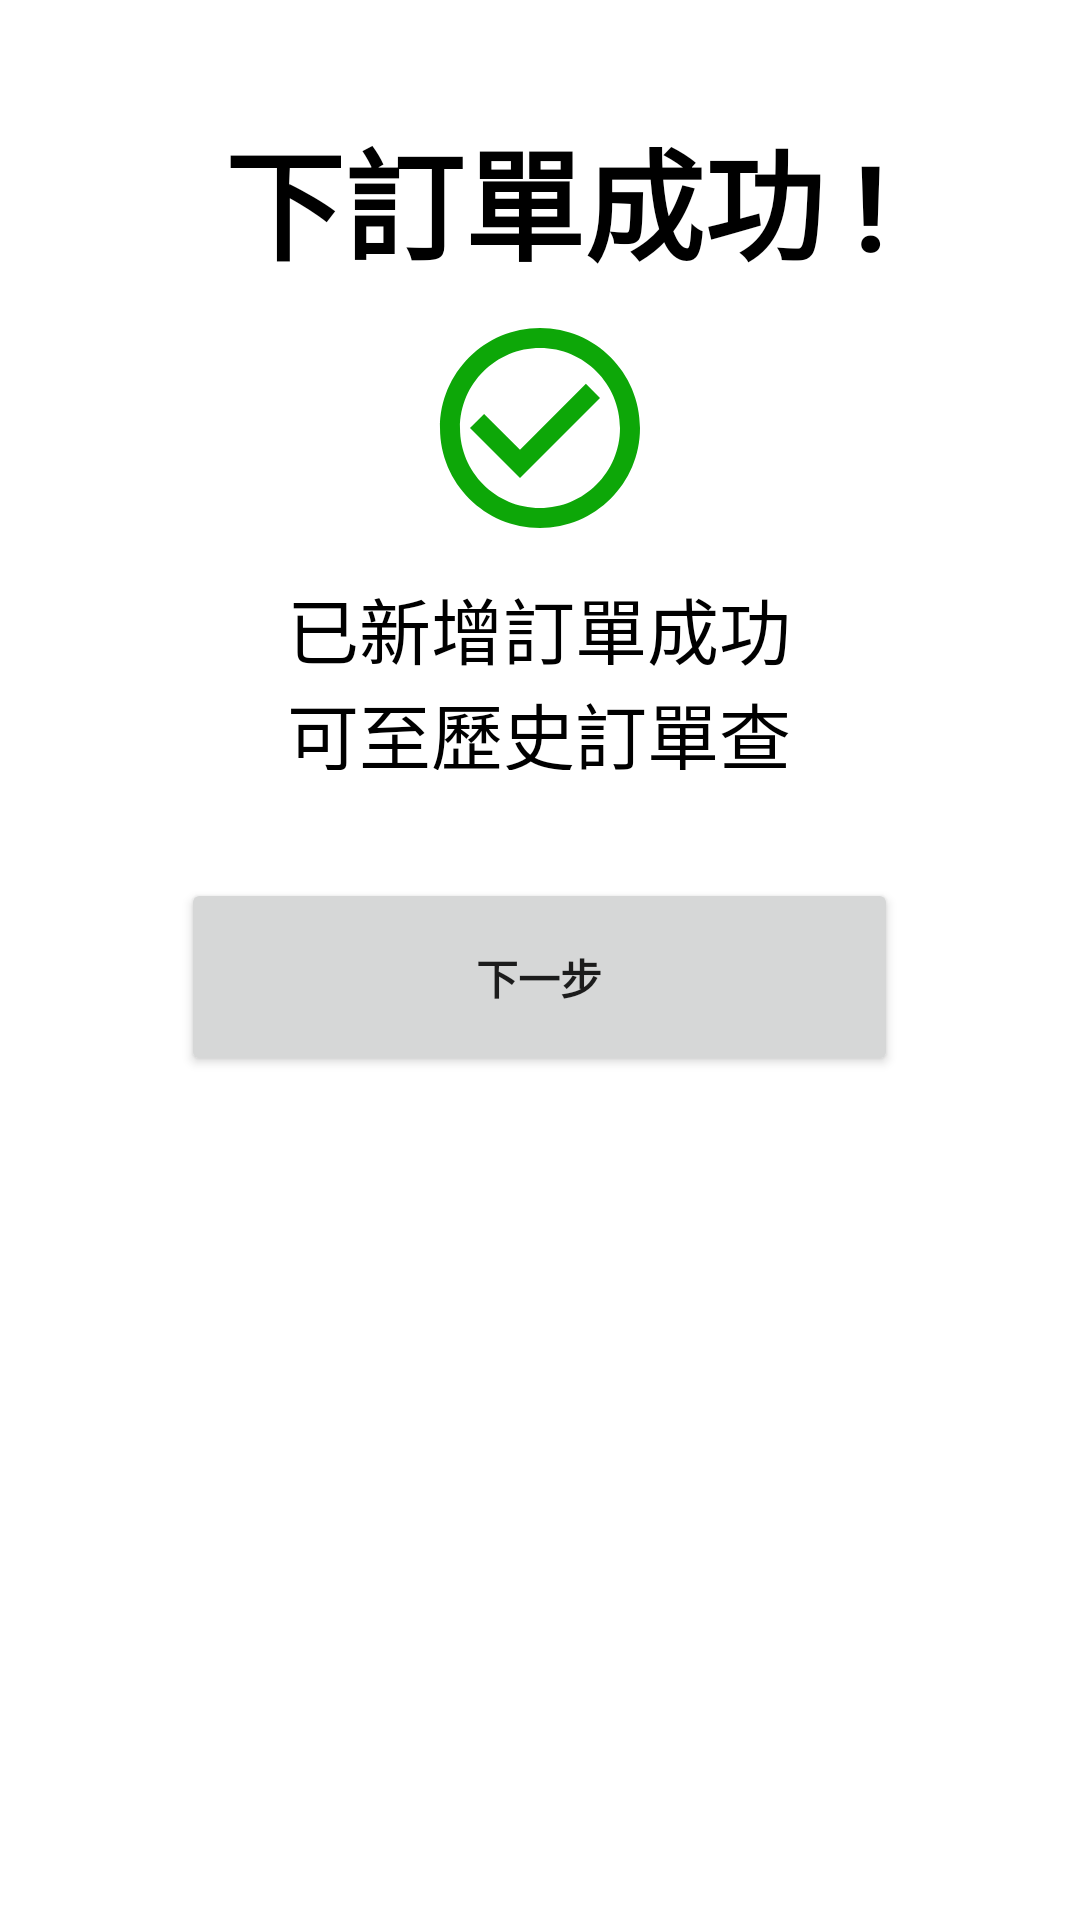

Icon click points for this 1080px x 1920px phone screenshot, format (x,y):
check circle: (539,428)
